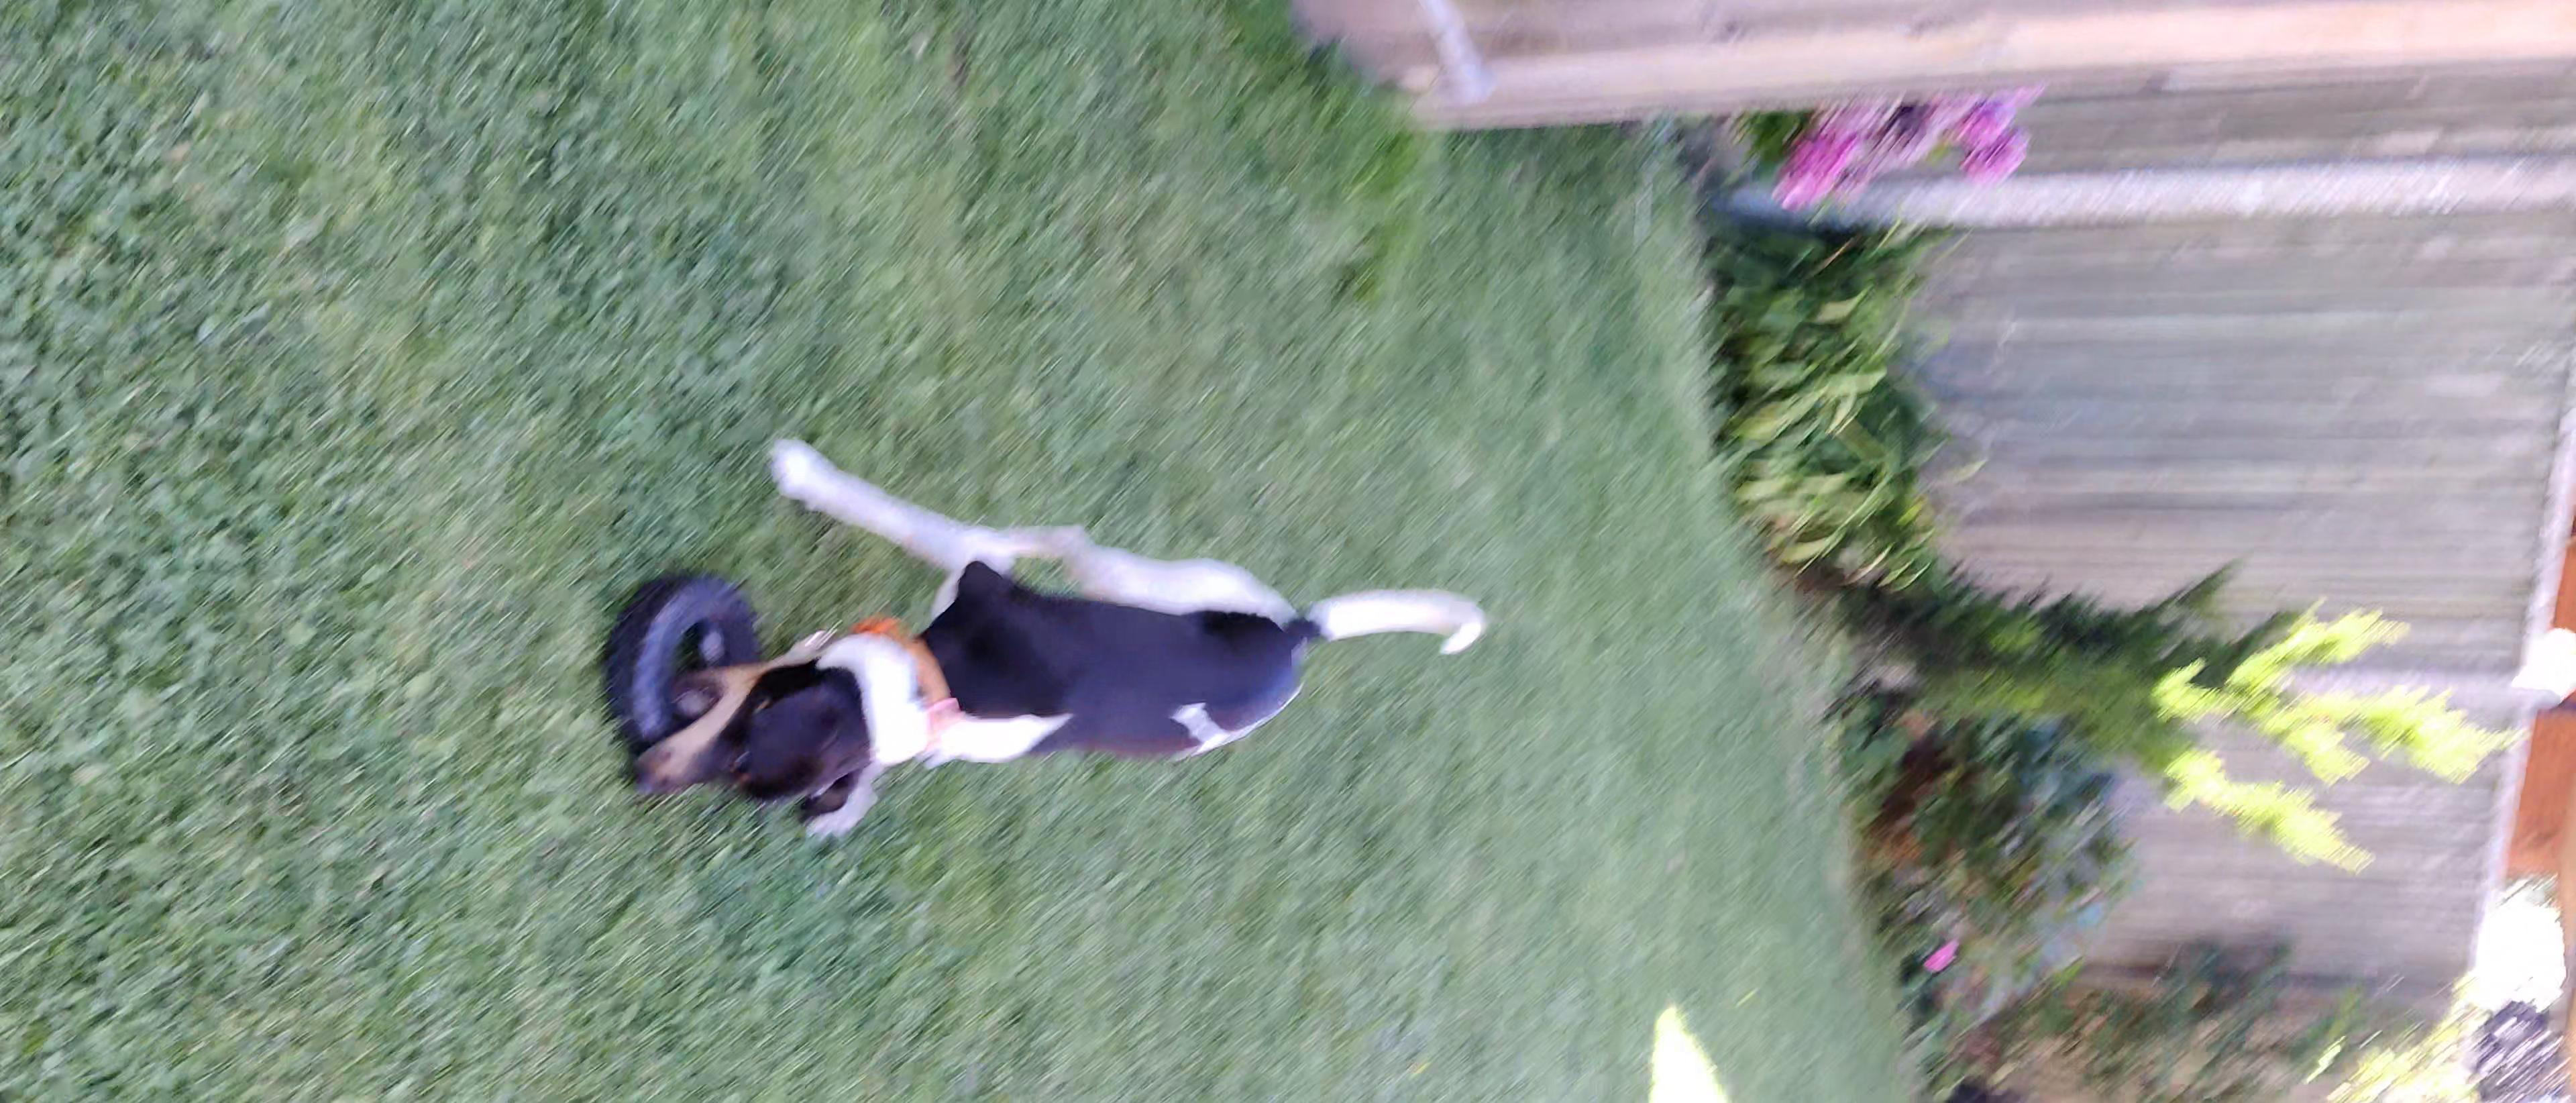Dog: (618, 431, 1490, 843)
